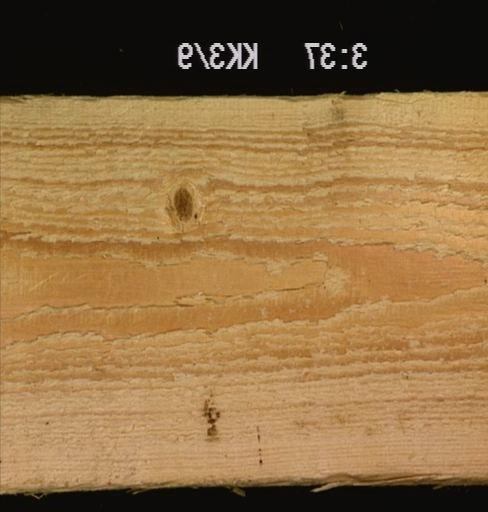sound_knot: (169, 185, 197, 221)
wave: (0, 470, 486, 495), (0, 90, 465, 103)
